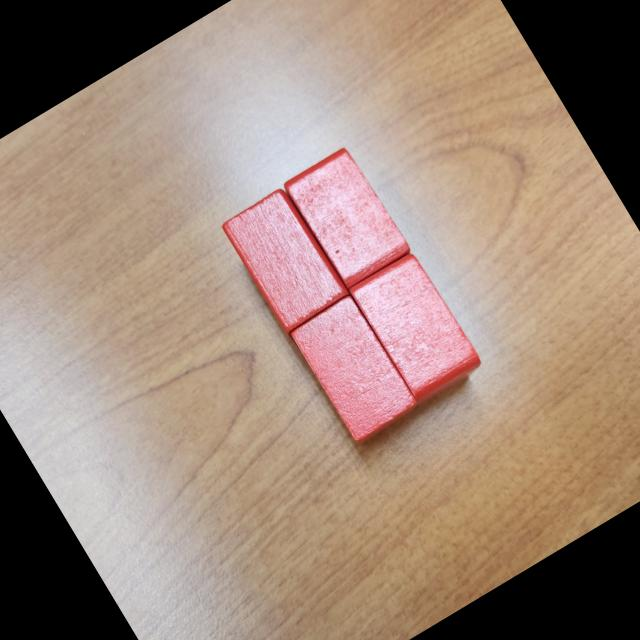red: (348, 249, 488, 409), (287, 292, 423, 446), (218, 184, 354, 336), (280, 144, 414, 293)
